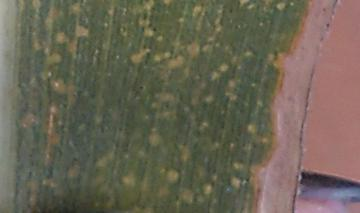tarspot: (151, 26, 158, 33), (245, 176, 251, 183), (138, 85, 144, 91)
